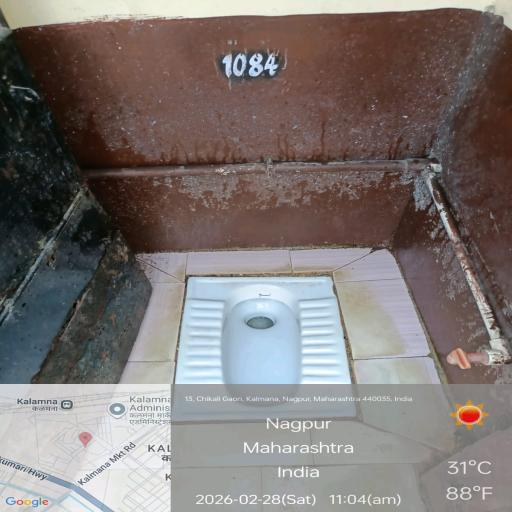clean_indian: (164, 268, 381, 435)
dirty_floor: (20, 272, 490, 490)
partial_dirty_floor: (22, 55, 512, 260)
